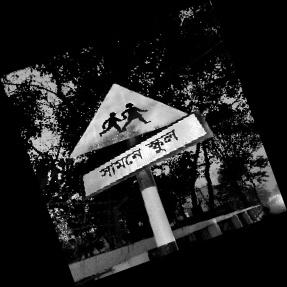School-in-front: (71, 83, 211, 200)
